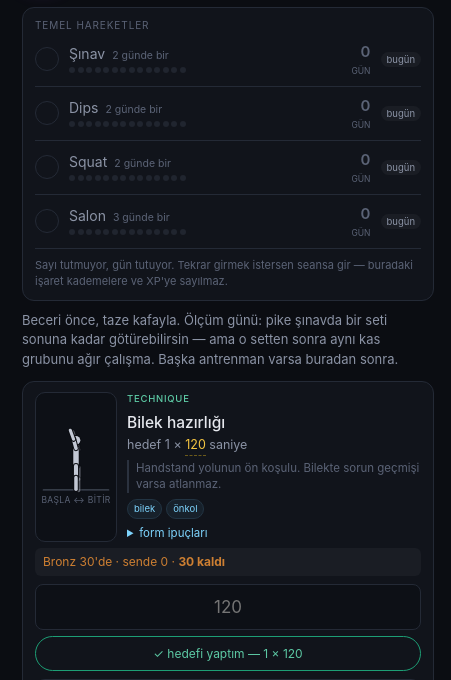
Test case: seans akışı › set girilir, seans kaydedilir, sonraki hedef gösterilir
This screenshot has width=451, height=680.
Type "12" into the number field with placeholder "120".
click(228, 607); type("12")  # box top-left (35, 584), bottom-right (421, 630)
(page scrolled)
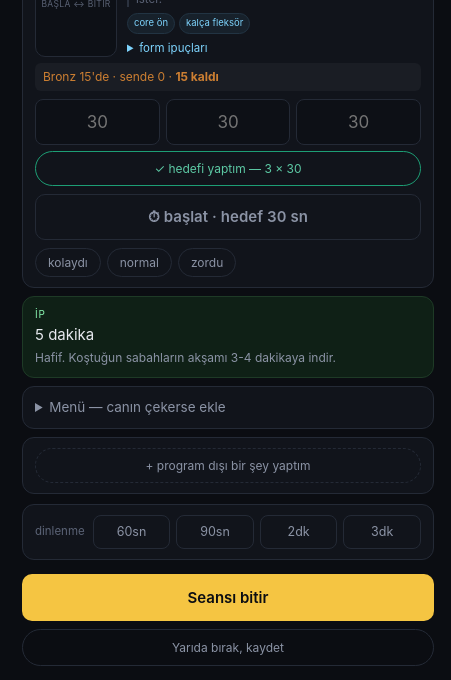
Click the button "Seansı bitir".
click(228, 597)  # box top-left (22, 574), bottom-right (434, 621)
(page scrolled)
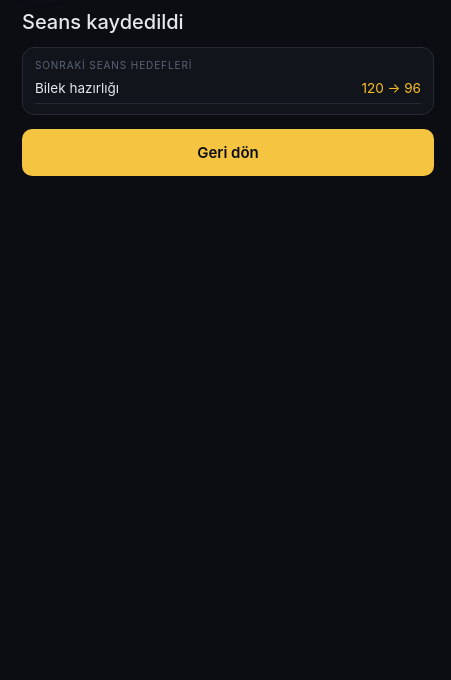
Now the heading "Seans kaydedildi" is shown, box top-left (22, 10), bottom-right (184, 34)
Now the text "SONRAKİ SEANS HEDEFLERİ" is shown, box top-left (35, 59), bottom-right (192, 71)
